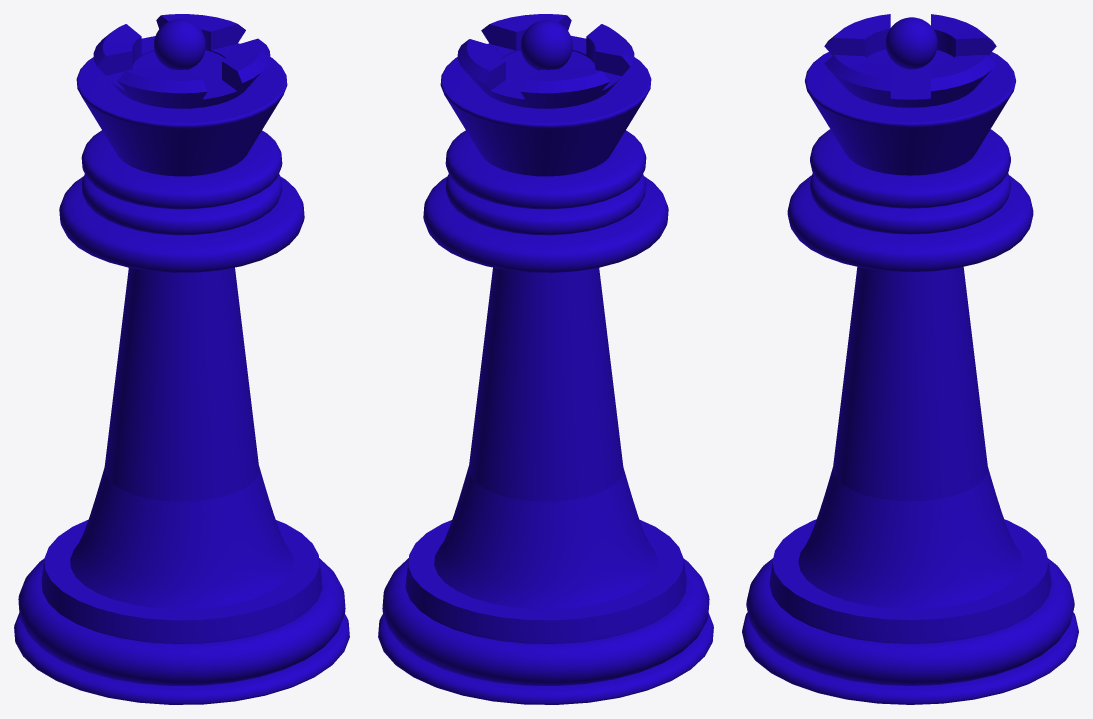
File: DA-ExemploAzul.FBX
The picture shows the model from 3 angles, left to right: view 1: azimuth 30°, elevation 25°; view 2: azimuth 150°, elevation 25°; view 3: azimuth 270°, elevation 25°; orthographic projection.
Visible parts, largest first — view 1: Arc01; view 2: Arc01; view 3: Arc01.
Boxes of the visible parts, bbox=[...] form: Arc01: bbox=[14, 14, 349, 704]; Arc01: bbox=[378, 14, 713, 704]; Arc01: bbox=[742, 14, 1078, 704].
Bounding box in the file's own units: 101 × 203 × 101.
